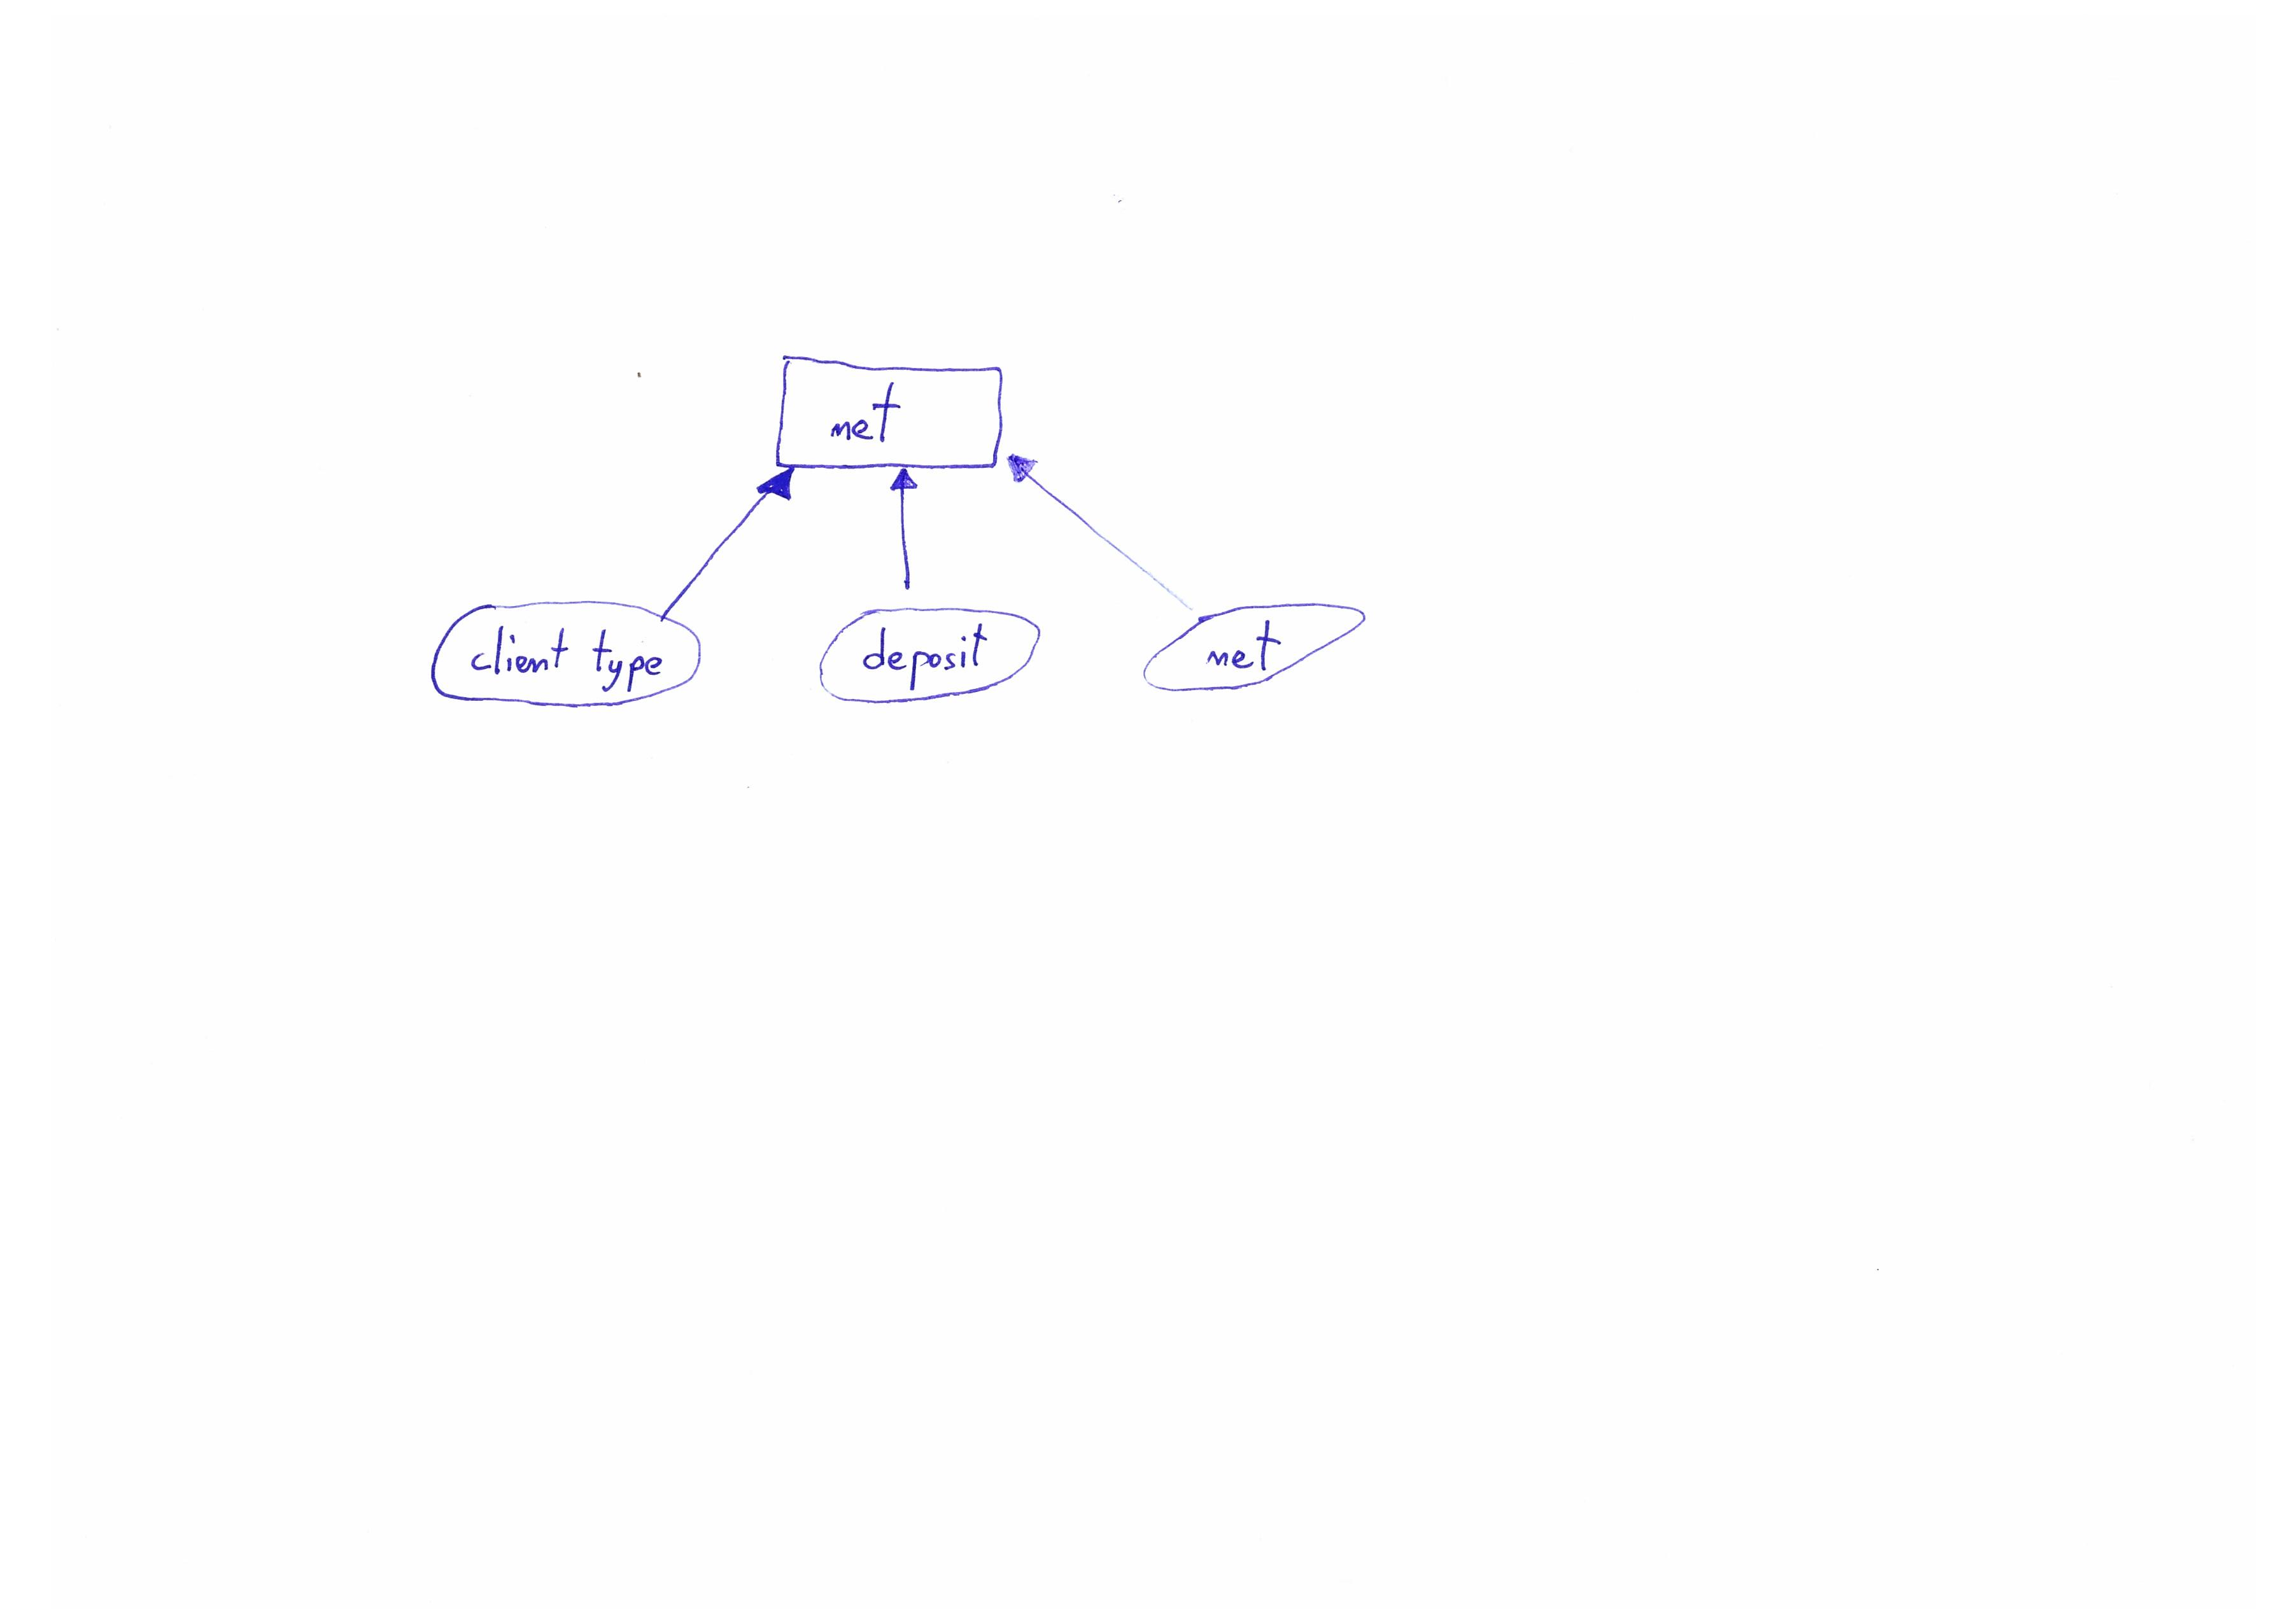arrow_information_requirement: (996, 445, 1197, 608), (650, 468, 822, 624), (882, 466, 923, 601)
node_decision: (770, 350, 1003, 471)
node_input_data: (422, 594, 719, 721), (803, 601, 1056, 719), (1119, 603, 1385, 694)
text: (462, 615, 669, 694), (854, 619, 989, 691), (814, 373, 915, 443), (1195, 615, 1293, 678)
